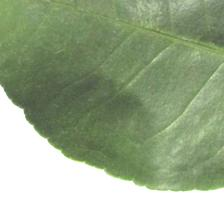healthy: (0, 1, 224, 191)
